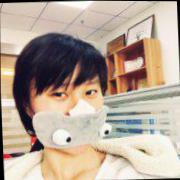WRONG: (31, 68, 107, 156)
